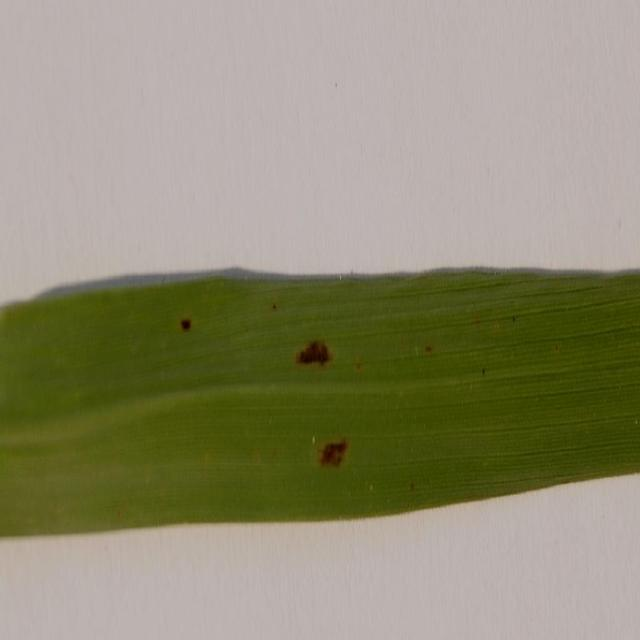Brown_Spot: (289, 306, 352, 401), (315, 424, 366, 479), (170, 300, 205, 353)
